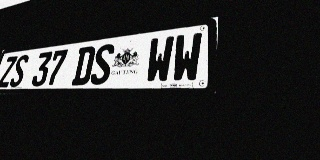3: (30, 51, 53, 86)
7: (44, 49, 68, 86)
D: (71, 46, 96, 85)
S: (89, 43, 116, 85), (8, 54, 30, 87)
W: (171, 32, 203, 83), (144, 35, 175, 83)
Z: (0, 56, 18, 87)
